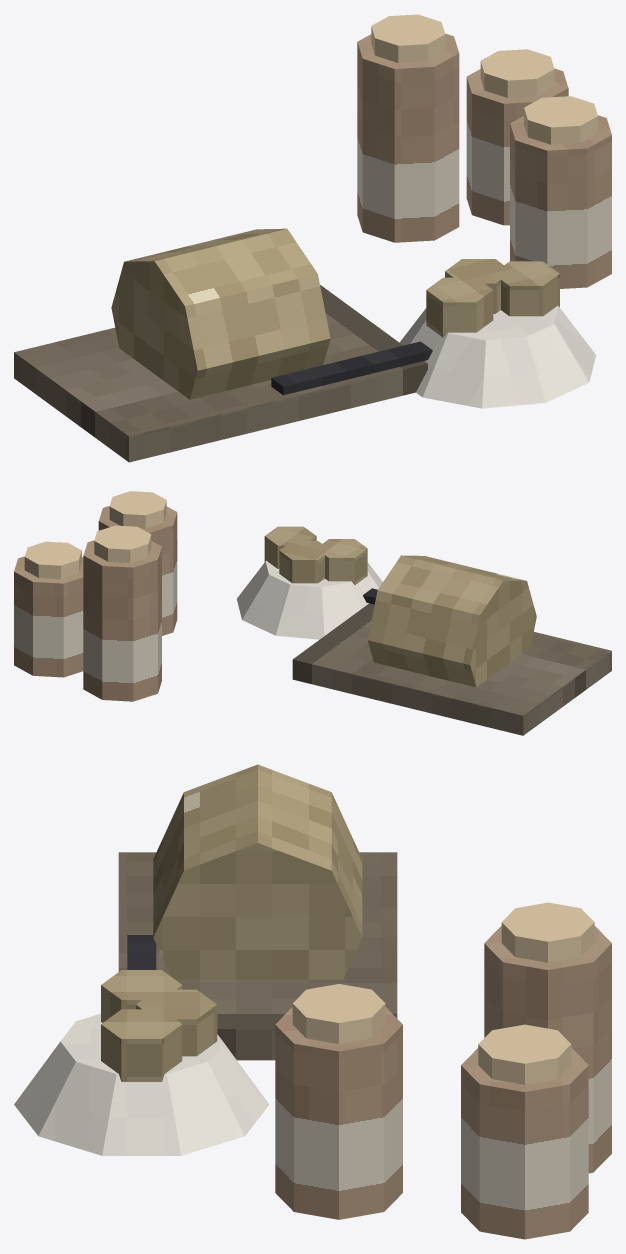
Rendered from kitchen_set.glb.
The picture shows the model from 3 angles, top to bottom: view 1: azimuth 30°, elevation 25°; view 2: azimuth 150°, elevation 25°; view 3: azimuth 270°, elevation 25°; orthographic projection. The views are drawn at different scales.
Parts seen in each view (by area): view 1: body; view 2: body; view 3: body.
Boxes of the visible parts, <box> form: body: <box>14,14,611,462</box>; body: <box>14,491,611,735</box>; body: <box>14,764,611,1239</box>.
Size of the model in its own units: 0.725 by 0.24 by 0.515.
Materials: 6 (5 with a texture image).
